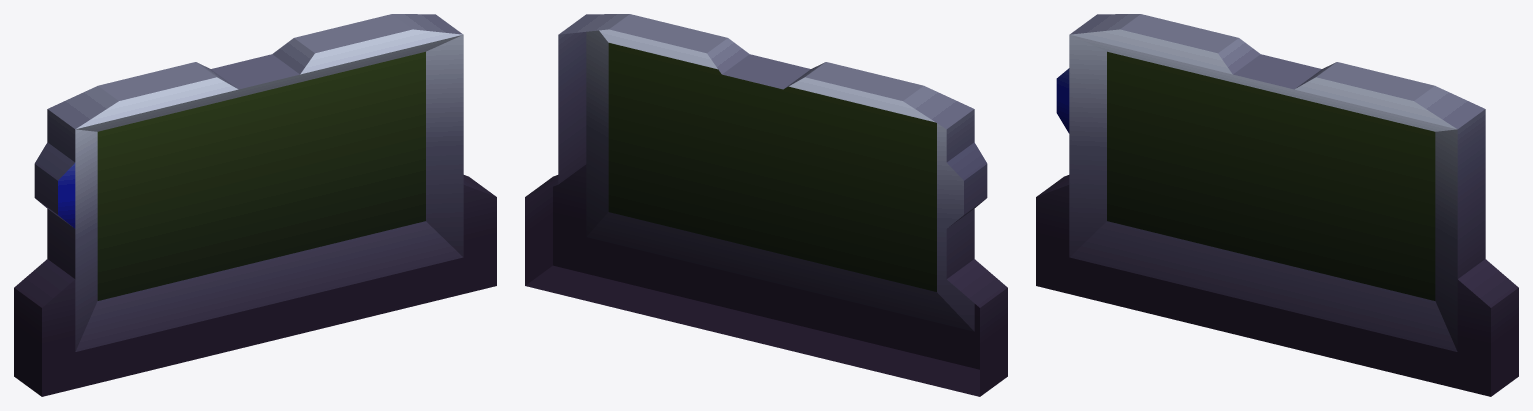
Rendered from miniPDA.fbx.
The picture shows the model from 3 angles, left to right: view 1: azimuth 30°, elevation 25°; view 2: azimuth 150°, elevation 25°; view 3: azimuth 330°, elevation 25°; orthographic projection.
Visible parts, largest first — view 1: Cube; view 2: Cube; view 3: Cube.
Boxes of the visible parts, x1=… form: Cube: x1=14, y1=14, x2=496, y2=396; Cube: x1=525, y1=14, x2=1007, y2=396; Cube: x1=1036, y1=14, x2=1518, y2=396.
Size of the model in its own units: 794 by 457 by 84.28.
